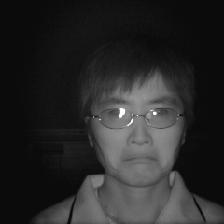sad: (77, 41, 197, 189)
